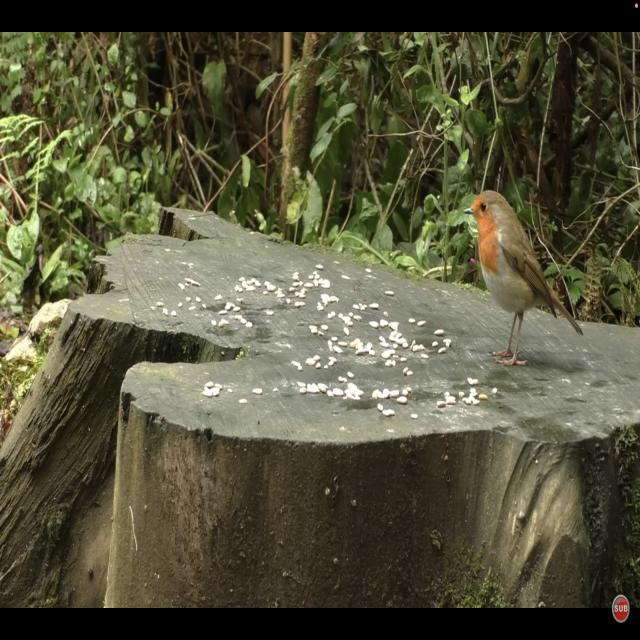beak: (464, 207, 474, 214)
bird: (468, 188, 584, 368)
